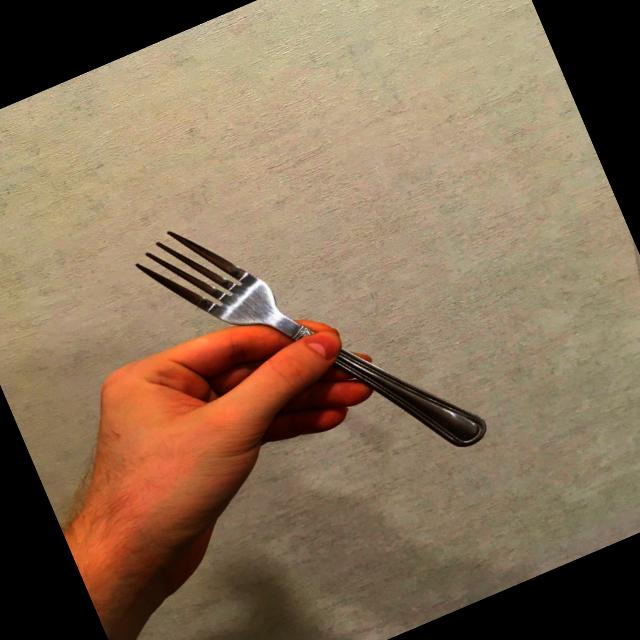fork: (125, 145, 492, 540)
